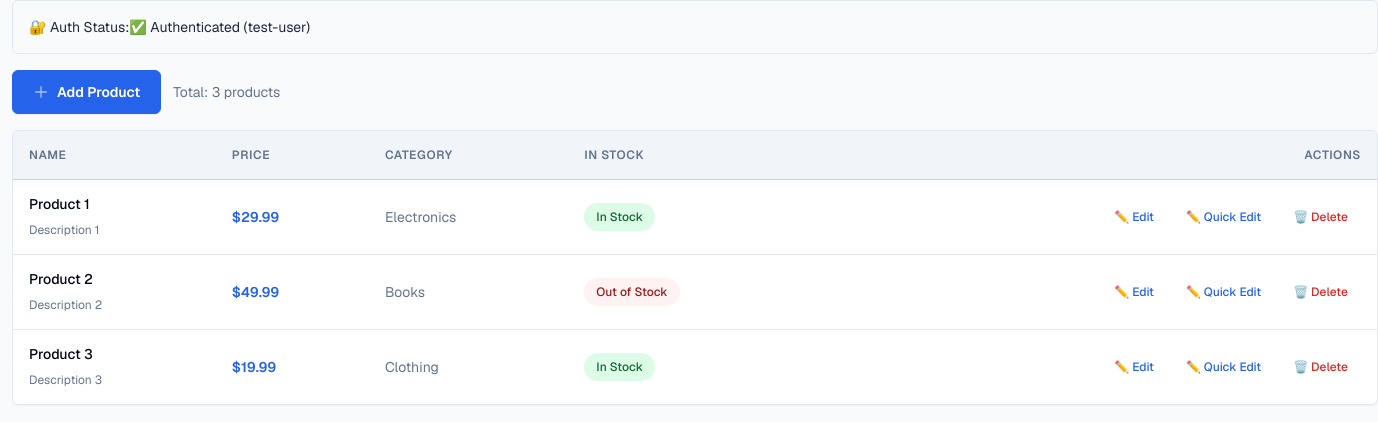
Scenario: ProductList Component › Deleting Products › should handle delete error
expect the text "Product 1" is shown: met, box x1=29 y1=195 x2=90 y2=213
Click the button "🗑️ Delete" in the row of "Product 1" at [1321, 217], box x1=1280 y1=200 x2=1361 y2=234
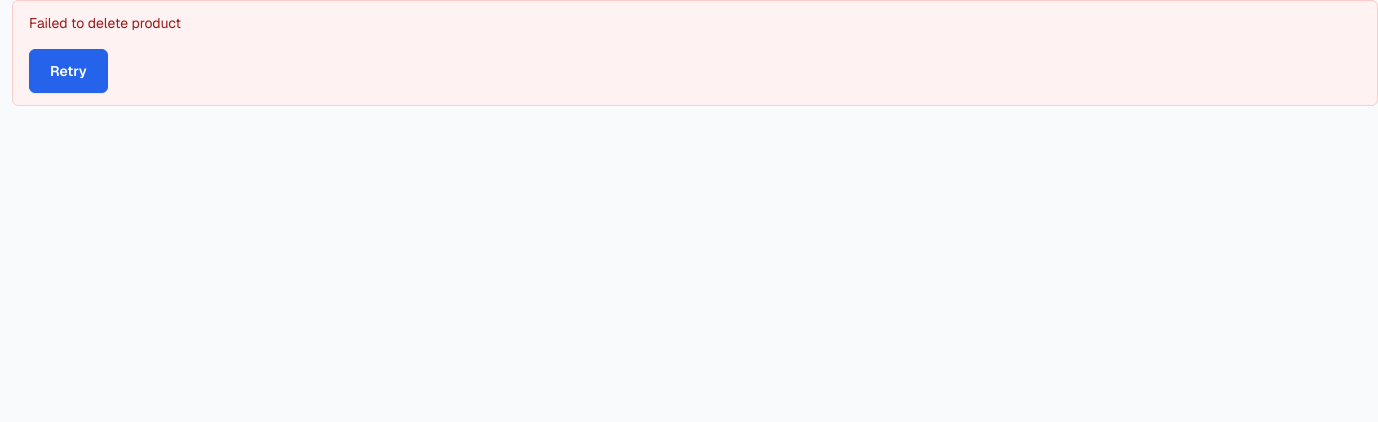
expect the text "Failed to delete product" is shown: met, box x1=29 y1=14 x2=181 y2=32
